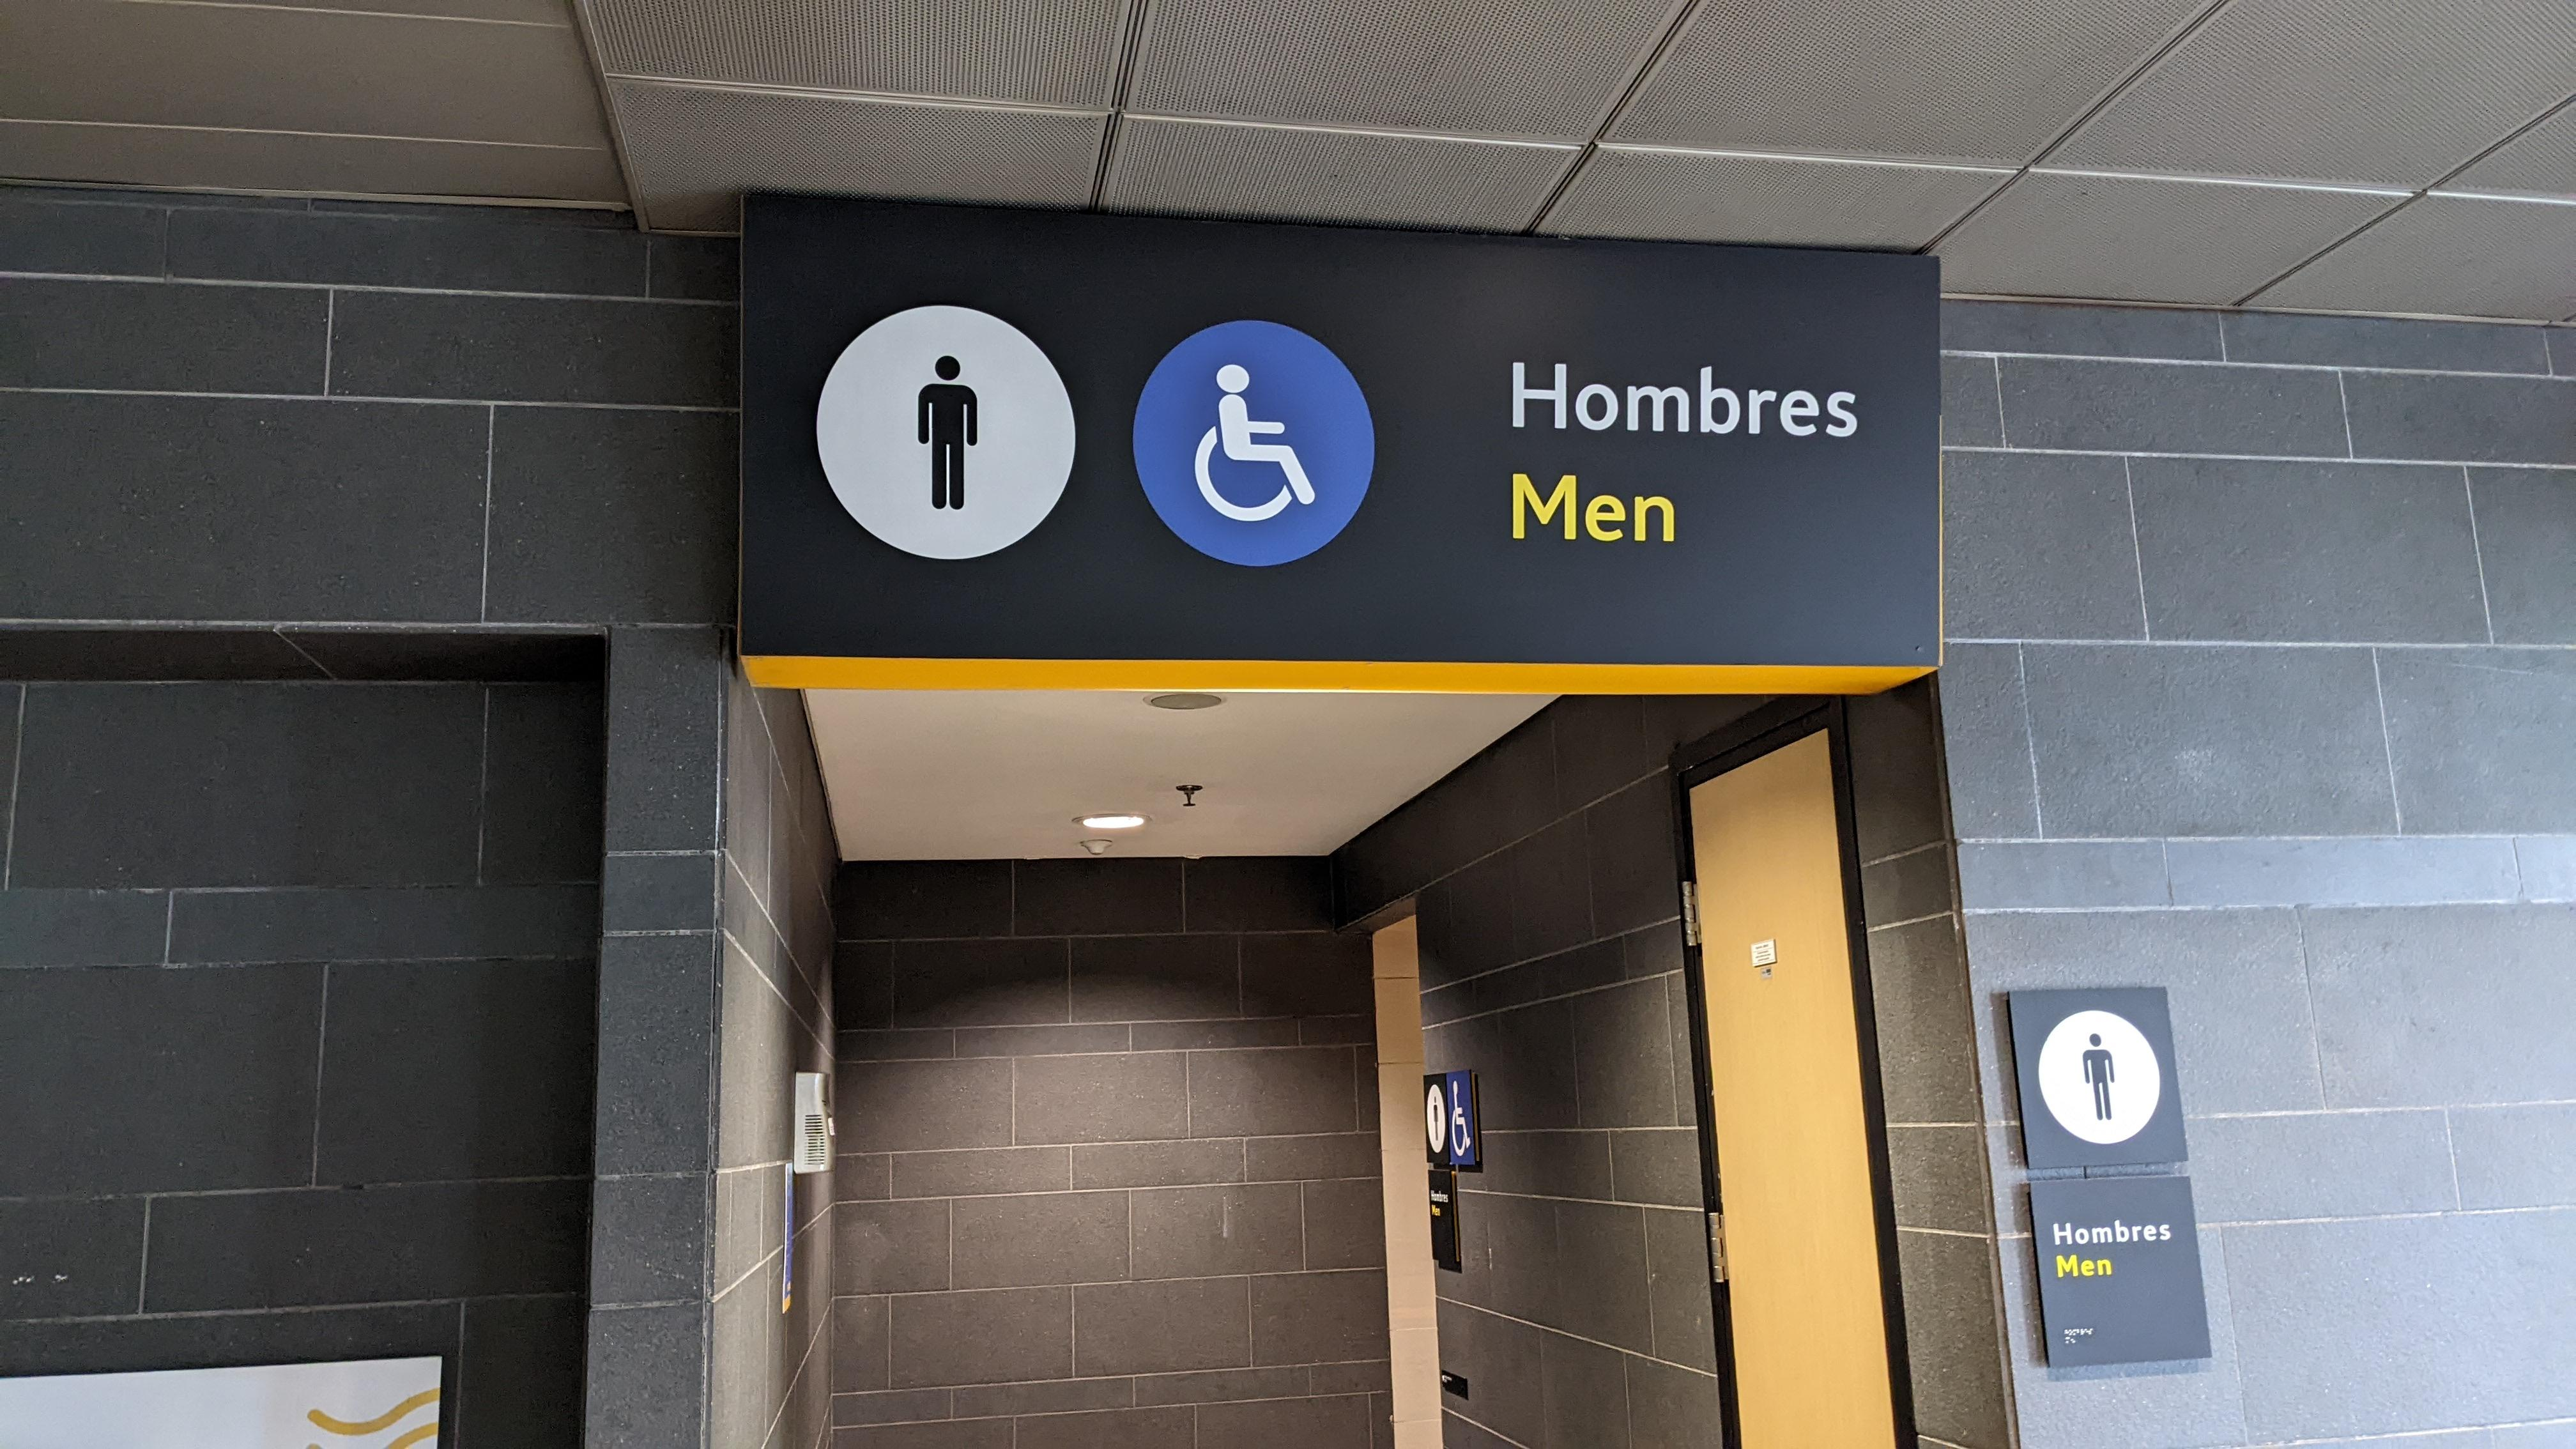emergency exit: (1451, 1079, 1470, 1159)
handicapped symbol: (1189, 361, 1318, 520)
